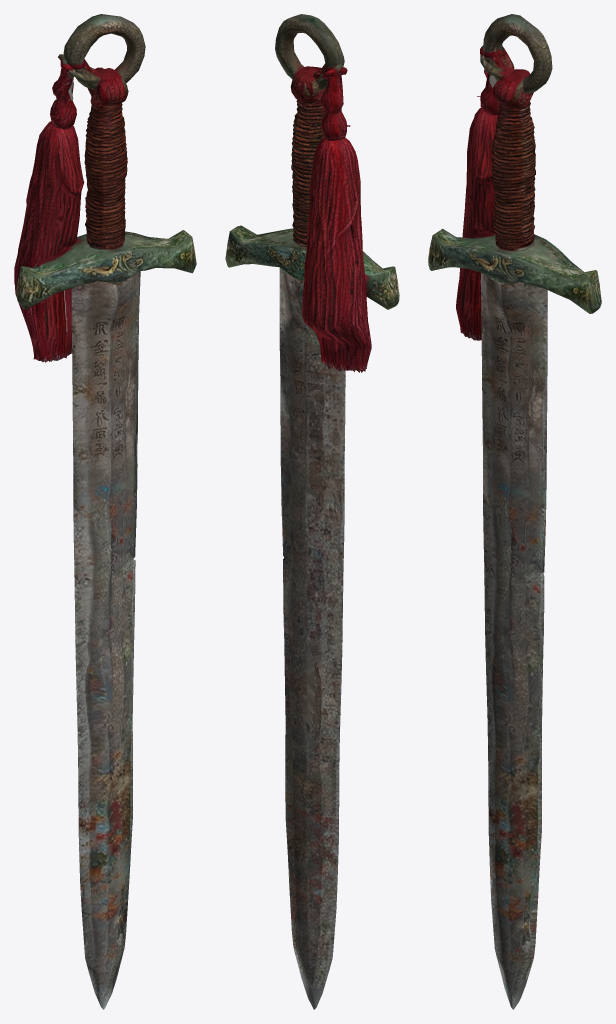
File: giant_sword.lod1.glb
The picture shows the model from 3 angles, left to right: view 1: azimuth 30°, elevation 25°; view 2: azimuth 150°, elevation 25°; view 3: azimuth 330°, elevation 25°; orthographic projection.
Visible parts, largest first — view 1: clean; view 2: clean; view 3: clean.
Part boxes in pixels (x1,y1,x2,y2): clean: [14, 14, 196, 1009]; clean: [225, 14, 399, 1009]; clean: [428, 14, 601, 1009].
Size of the model in its own units: 76.09 by 420 by 38.83.
Materials: 1 (1 with a texture image).
